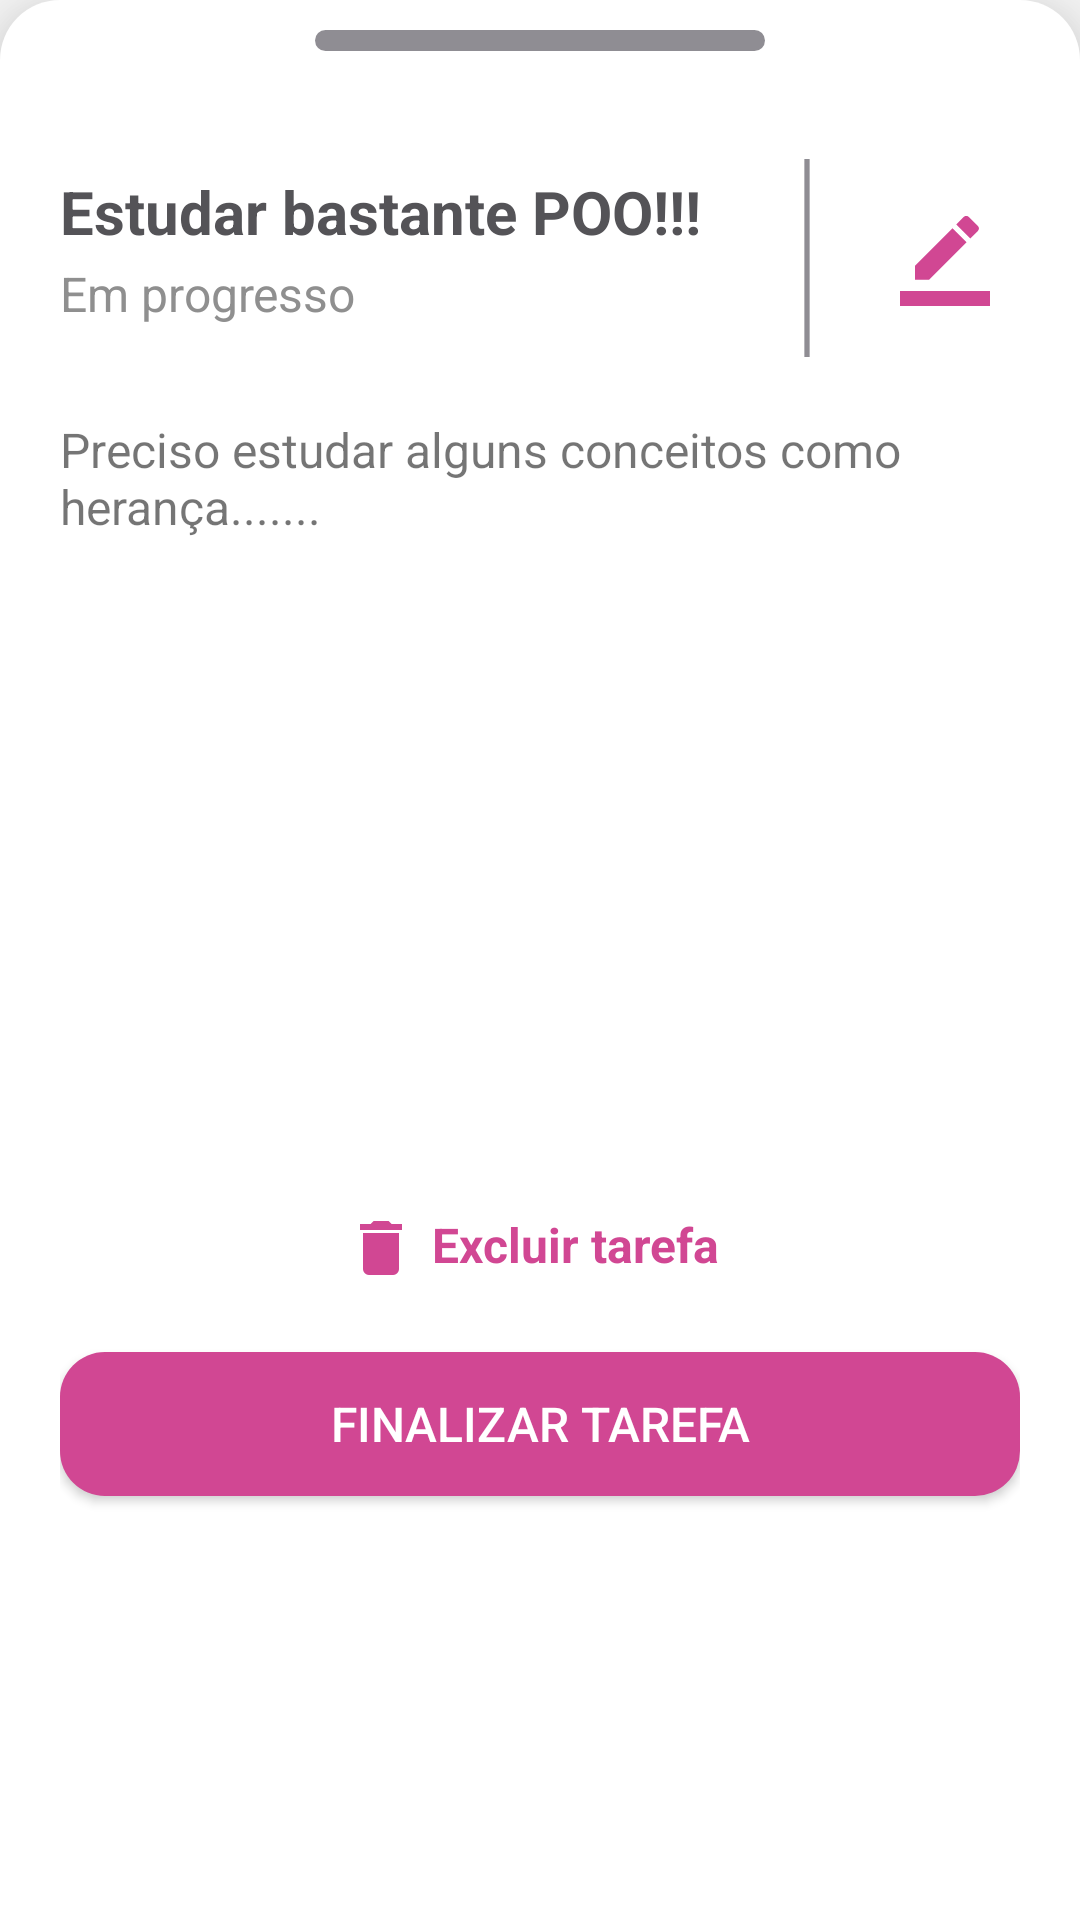

Icons on this 1080x1920 Android screen, each with its box as (x1, y1, x2, y2):
editar: (900, 216, 990, 306)
